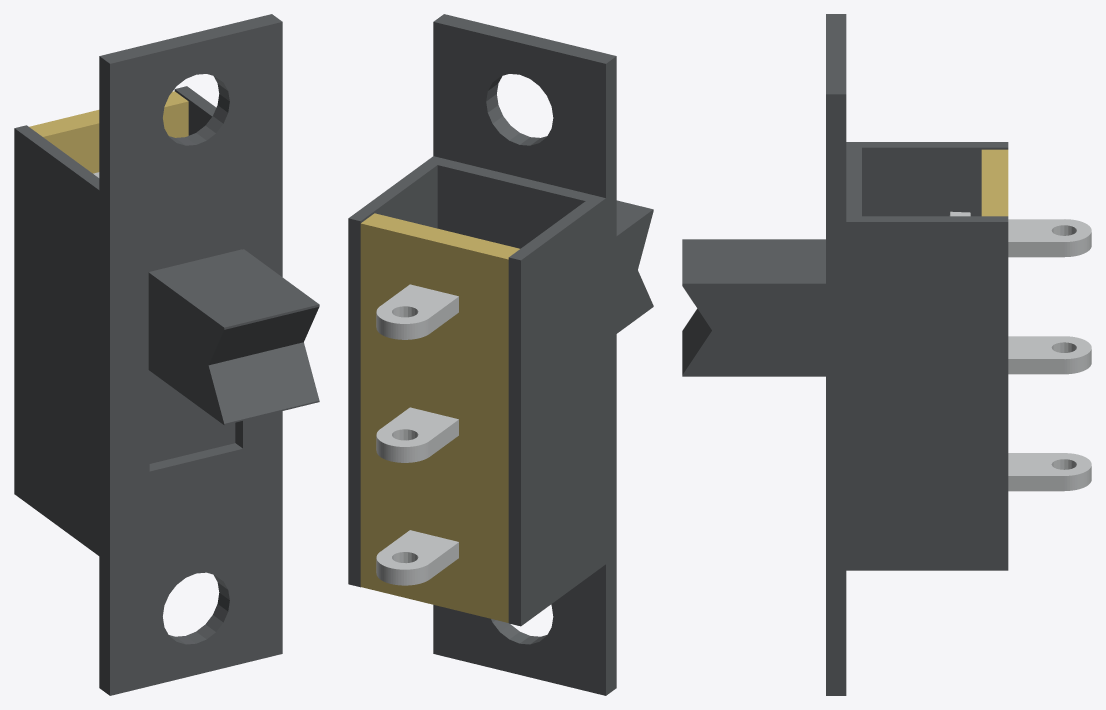
Rendered from Switch.fbx.
The picture shows the model from 3 angles, left to right: view 1: azimuth 30°, elevation 25°; view 2: azimuth 150°, elevation 25°; view 3: azimuth 270°, elevation 25°; orthographic projection. The views are drawn at different scales.
Visible parts, largest first — view 1: Mesh_Mesh_head_geo.001_lambert2SG.001; view 2: Mesh_Mesh_head_geo.001_lambert2SG.001; view 3: Mesh_Mesh_head_geo.001_lambert2SG.001.
Boxes of the visible parts, x1,y1,x2,y2 form: Mesh_Mesh_head_geo.001_lambert2SG.001: (14, 14, 319, 695); Mesh_Mesh_head_geo.001_lambert2SG.001: (348, 14, 653, 695); Mesh_Mesh_head_geo.001_lambert2SG.001: (682, 14, 1091, 695).
Bounding box in the file's own units: 544 × 1904 × 1174.
